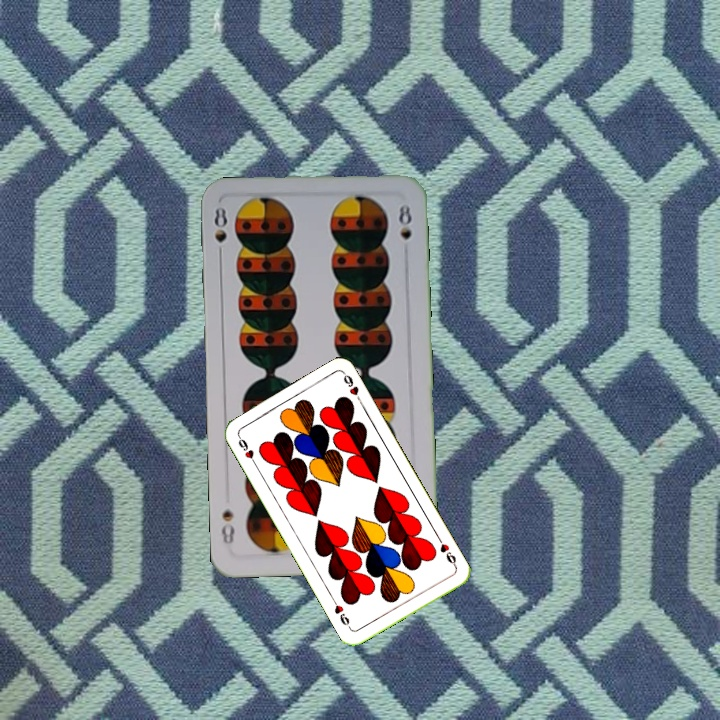H9: (434, 533, 460, 570), (233, 431, 259, 468)
S8: (209, 203, 230, 262)
